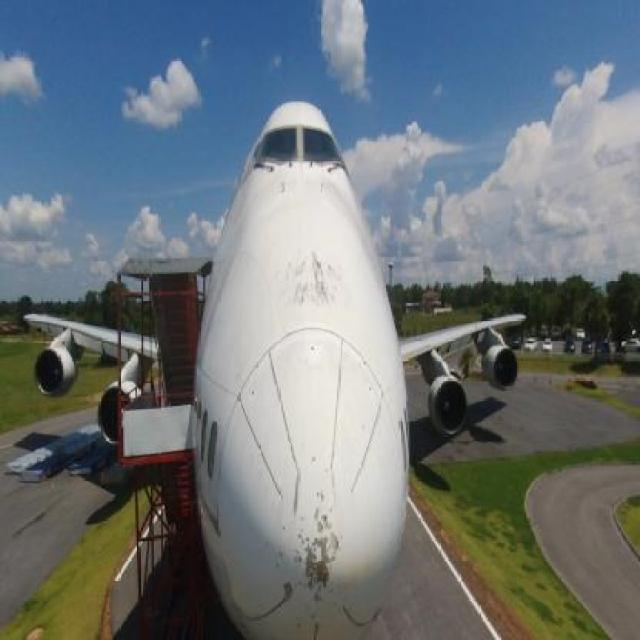Rust: (288, 505, 352, 610)
Scartch: (253, 451, 384, 640), (261, 225, 367, 338), (205, 495, 240, 576)
